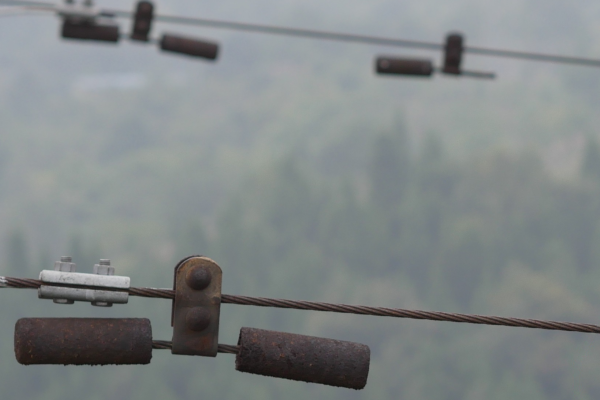damper: (7, 250, 375, 393), (56, 2, 222, 63)
damper_defect: (371, 30, 500, 81)
